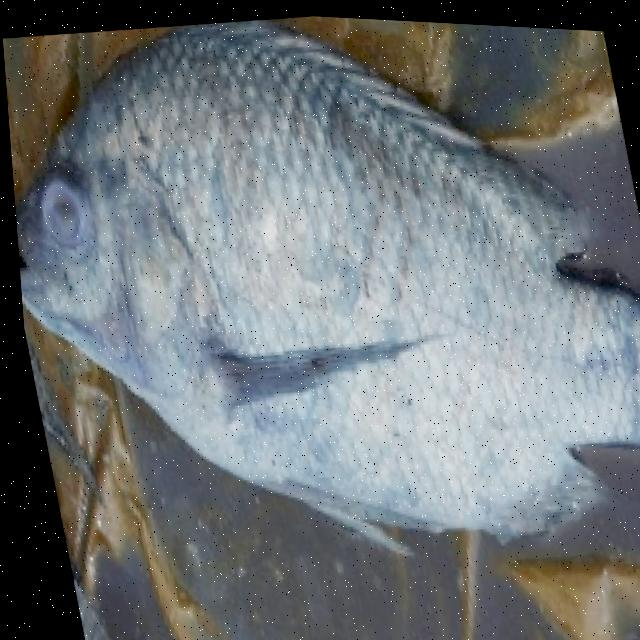Non-Fresh: (0, 0, 640, 585)
